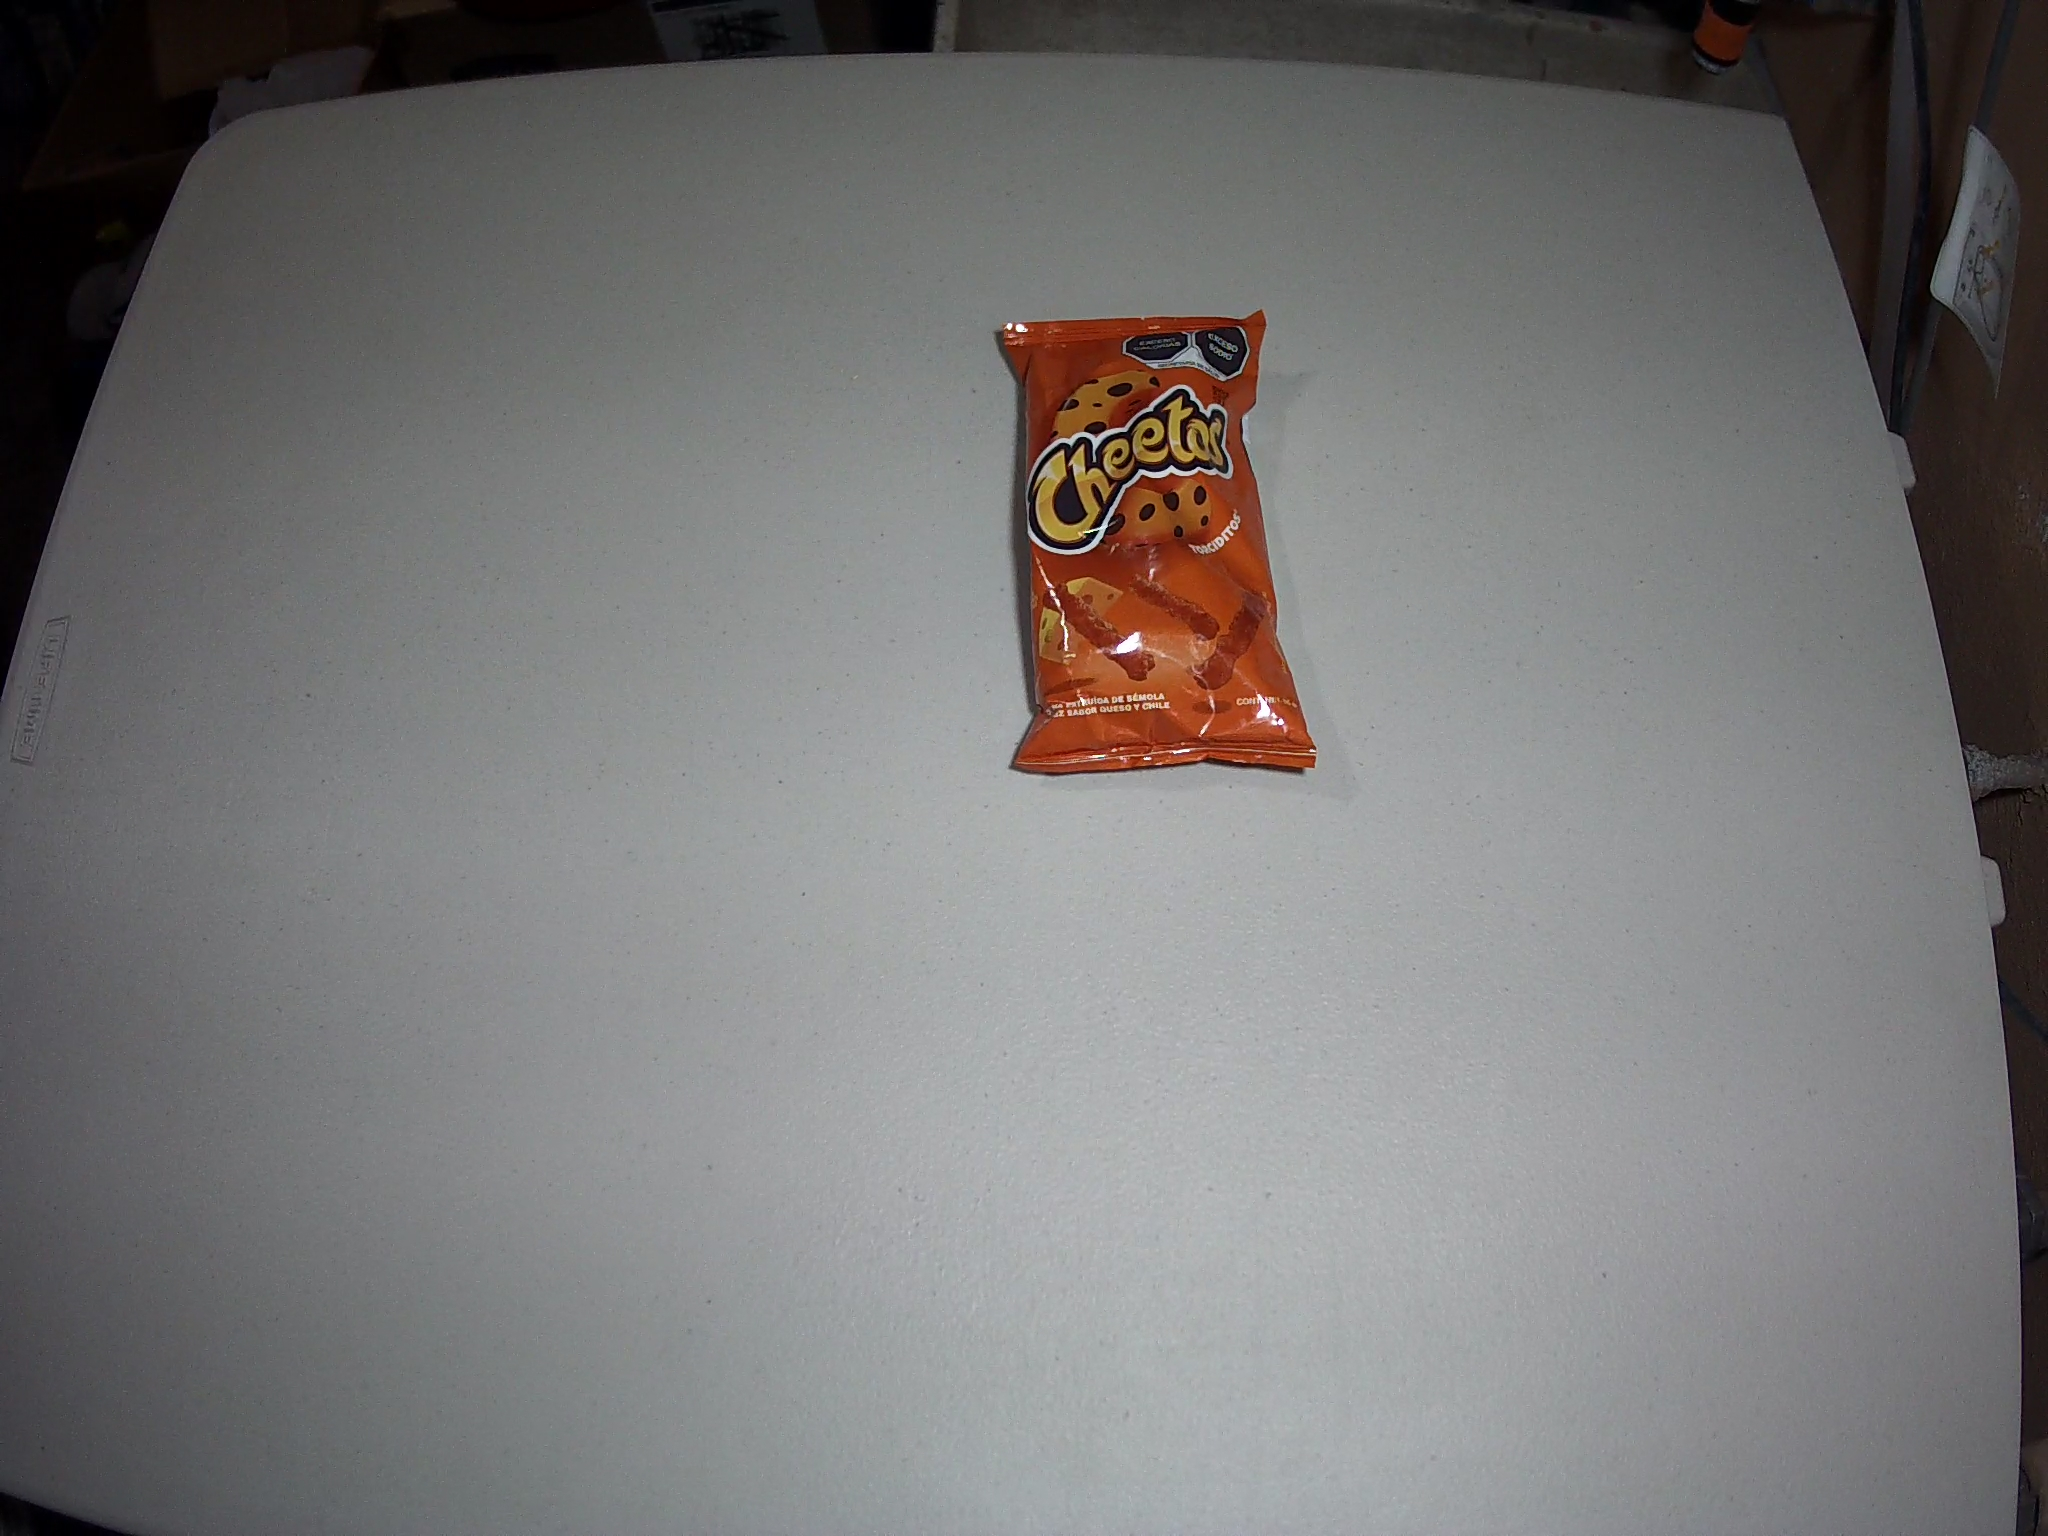CheetosTorciditos_55_F: (997, 310, 1317, 774)
